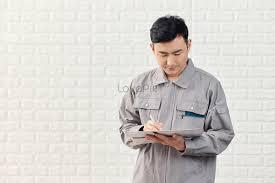Drowsy: (139, 13, 200, 98)
